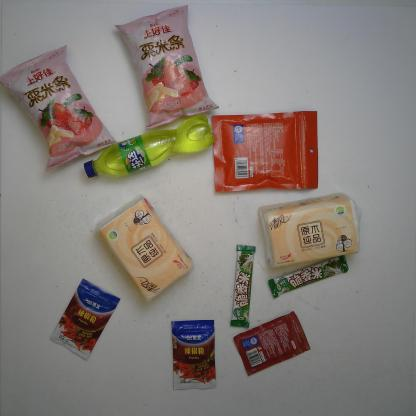Chocolate: (266, 255, 349, 299), (230, 245, 256, 328)
Dried Fruit: (210, 110, 320, 194)
Drink: (81, 113, 218, 182)
Puffed Food: (0, 41, 122, 174), (114, 4, 220, 131)
Seasoner: (49, 278, 121, 361), (232, 310, 312, 378), (171, 317, 218, 391)
Tissue: (93, 193, 195, 305), (256, 191, 361, 270)
